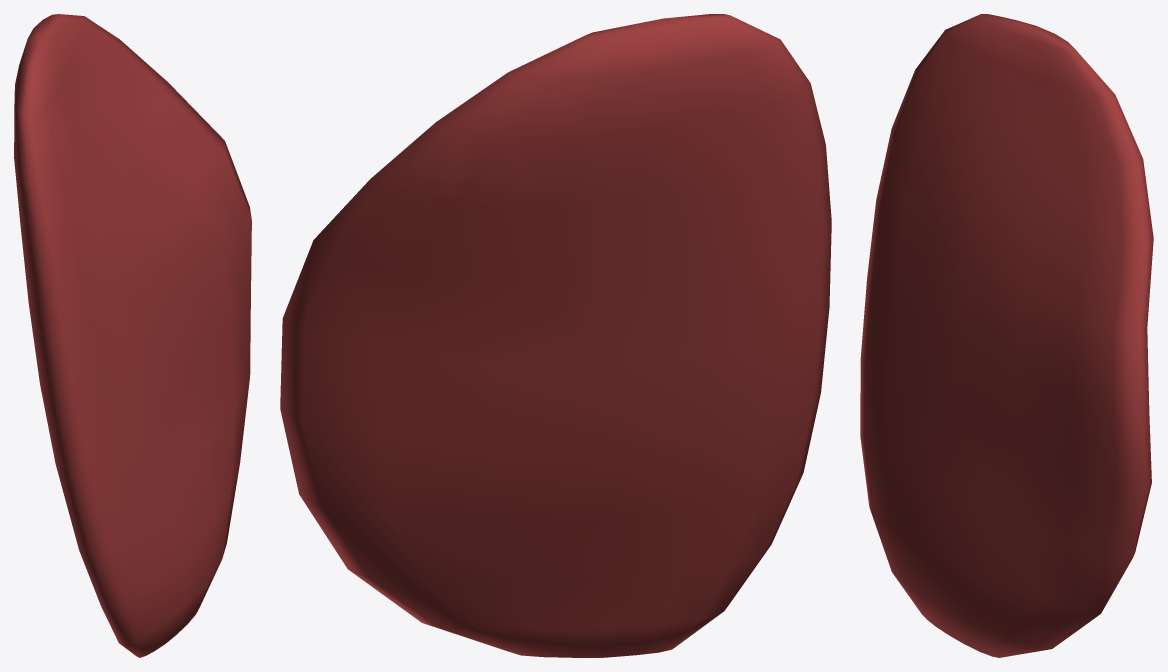
Rendered from trochanteric-bursa-of-gluteus-maximus-muscle-r.glb.
3 renders of one model, left to right at view 1: azimuth 30°, elevation 25°; view 2: azimuth 150°, elevation 25°; view 3: azimuth 270°, elevation 25°, orthographic. The views are drawn at different scales.
Parts seen in each view (by area): view 1: Trochanteric bursa of gluteus maximus muscle.r; view 2: Trochanteric bursa of gluteus maximus muscle.r; view 3: Trochanteric bursa of gluteus maximus muscle.r.
Part boxes in pixels (bbox=[...]): Trochanteric bursa of gluteus maximus muscle.r: bbox=[14, 14, 251, 657]; Trochanteric bursa of gluteus maximus muscle.r: bbox=[280, 14, 831, 657]; Trochanteric bursa of gluteus maximus muscle.r: bbox=[860, 14, 1153, 657].
Size of the model in its own units: 0.018 by 0.0301 by 0.014.
